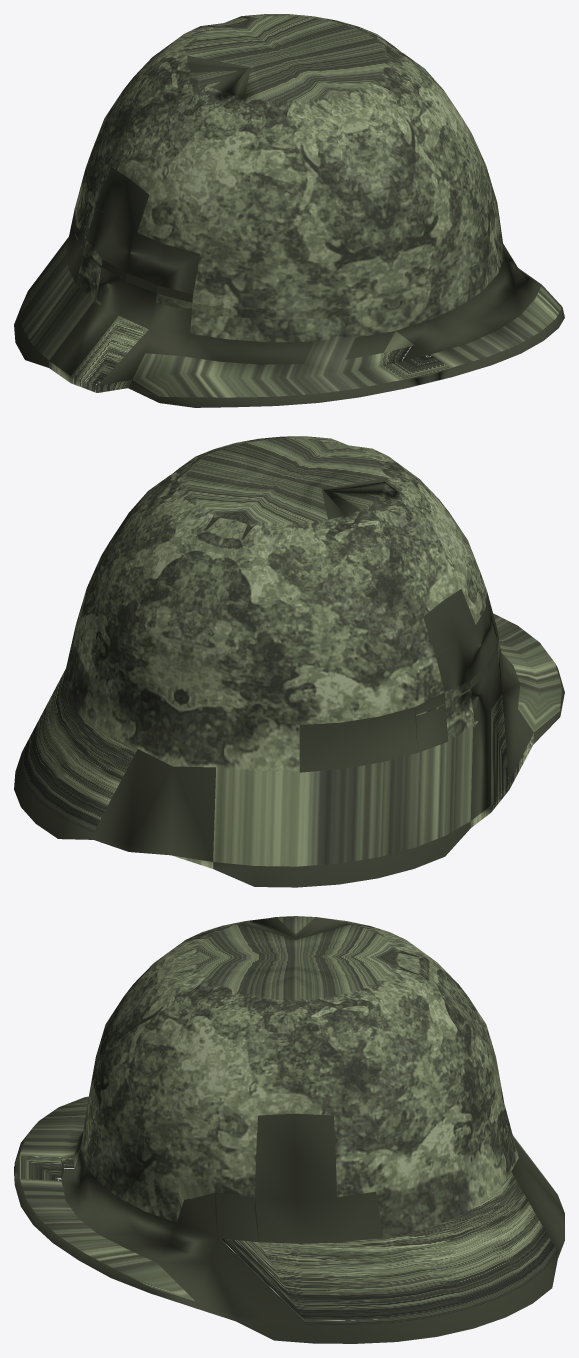
File: Helmet_Texture.fbx
The picture shows the model from 3 angles, top to bottom: view 1: azimuth 30°, elevation 25°; view 2: azimuth 150°, elevation 25°; view 3: azimuth 270°, elevation 25°; orthographic projection.
Parts seen in each view (by area): view 1: Sphere; view 2: Sphere; view 3: Sphere.
Part boxes in pixels (x1=…): Sphere: x1=14, y1=14, x2=564, y2=407; Sphere: x1=14, y1=436, x2=564, y2=887; Sphere: x1=14, y1=916, x2=564, y2=1343.
Size of the model in its own units: 226 by 146 by 257.
Materials: 1 (1 with a texture image).
